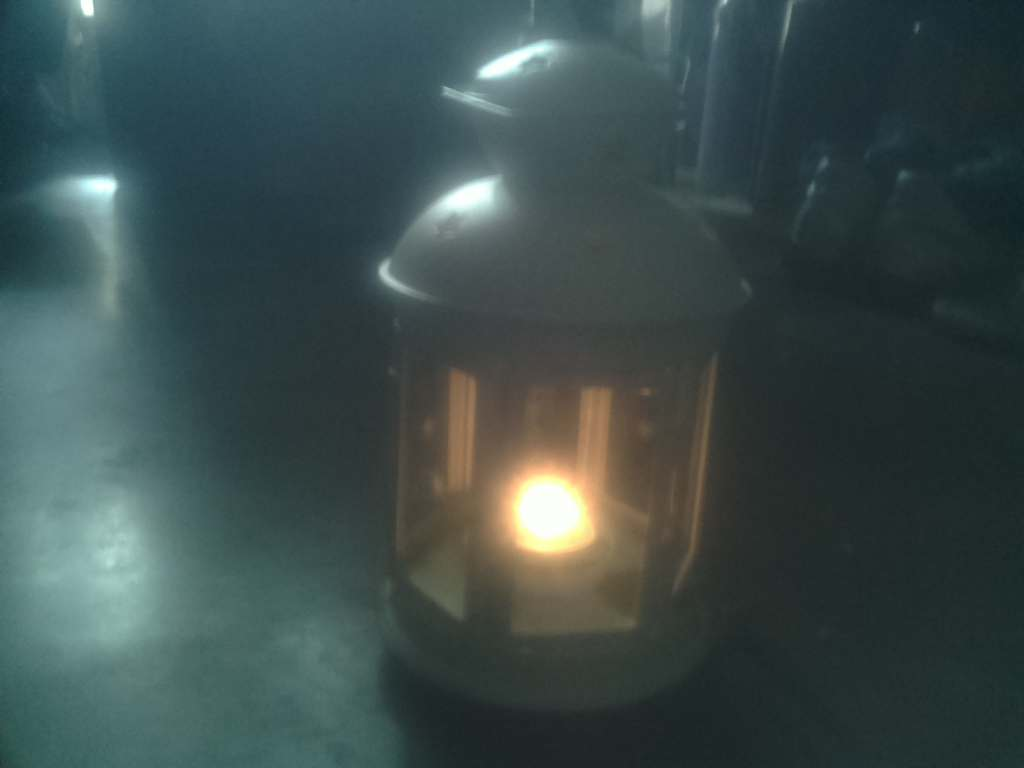fire: (508, 474, 612, 564)
